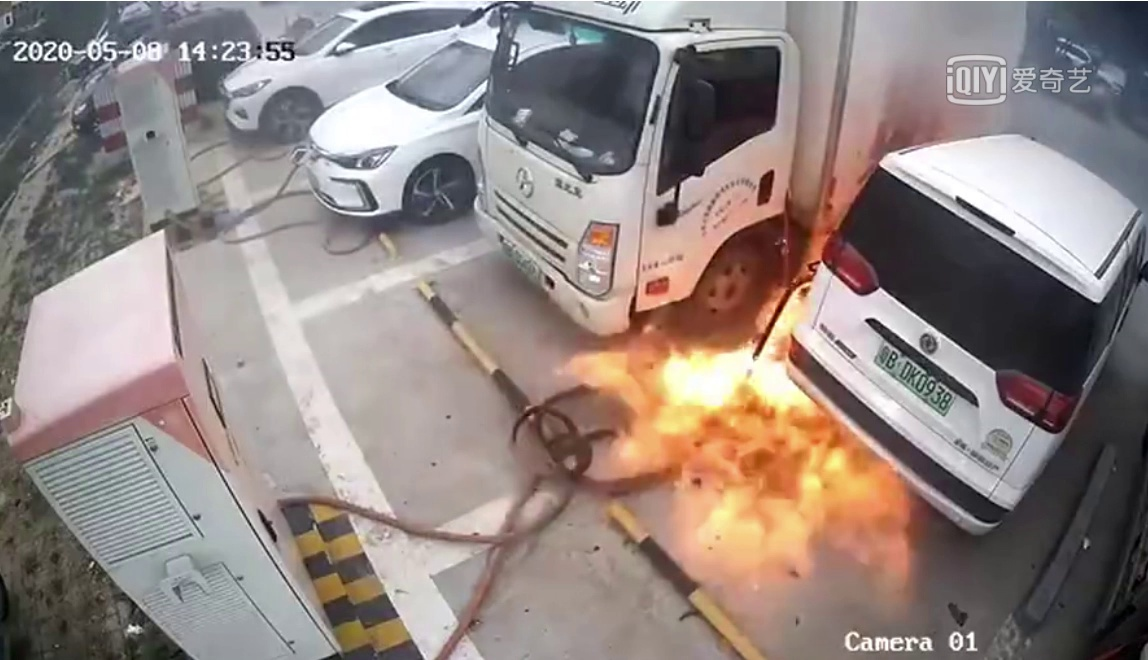fire: (567, 306, 916, 606)
